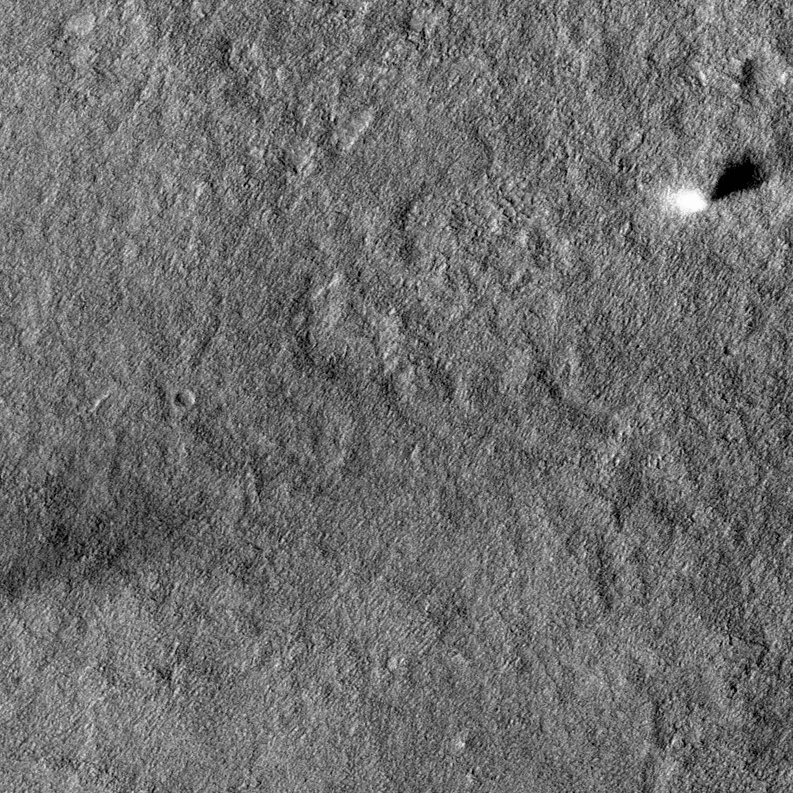dust_devil: (664, 150, 774, 220)
